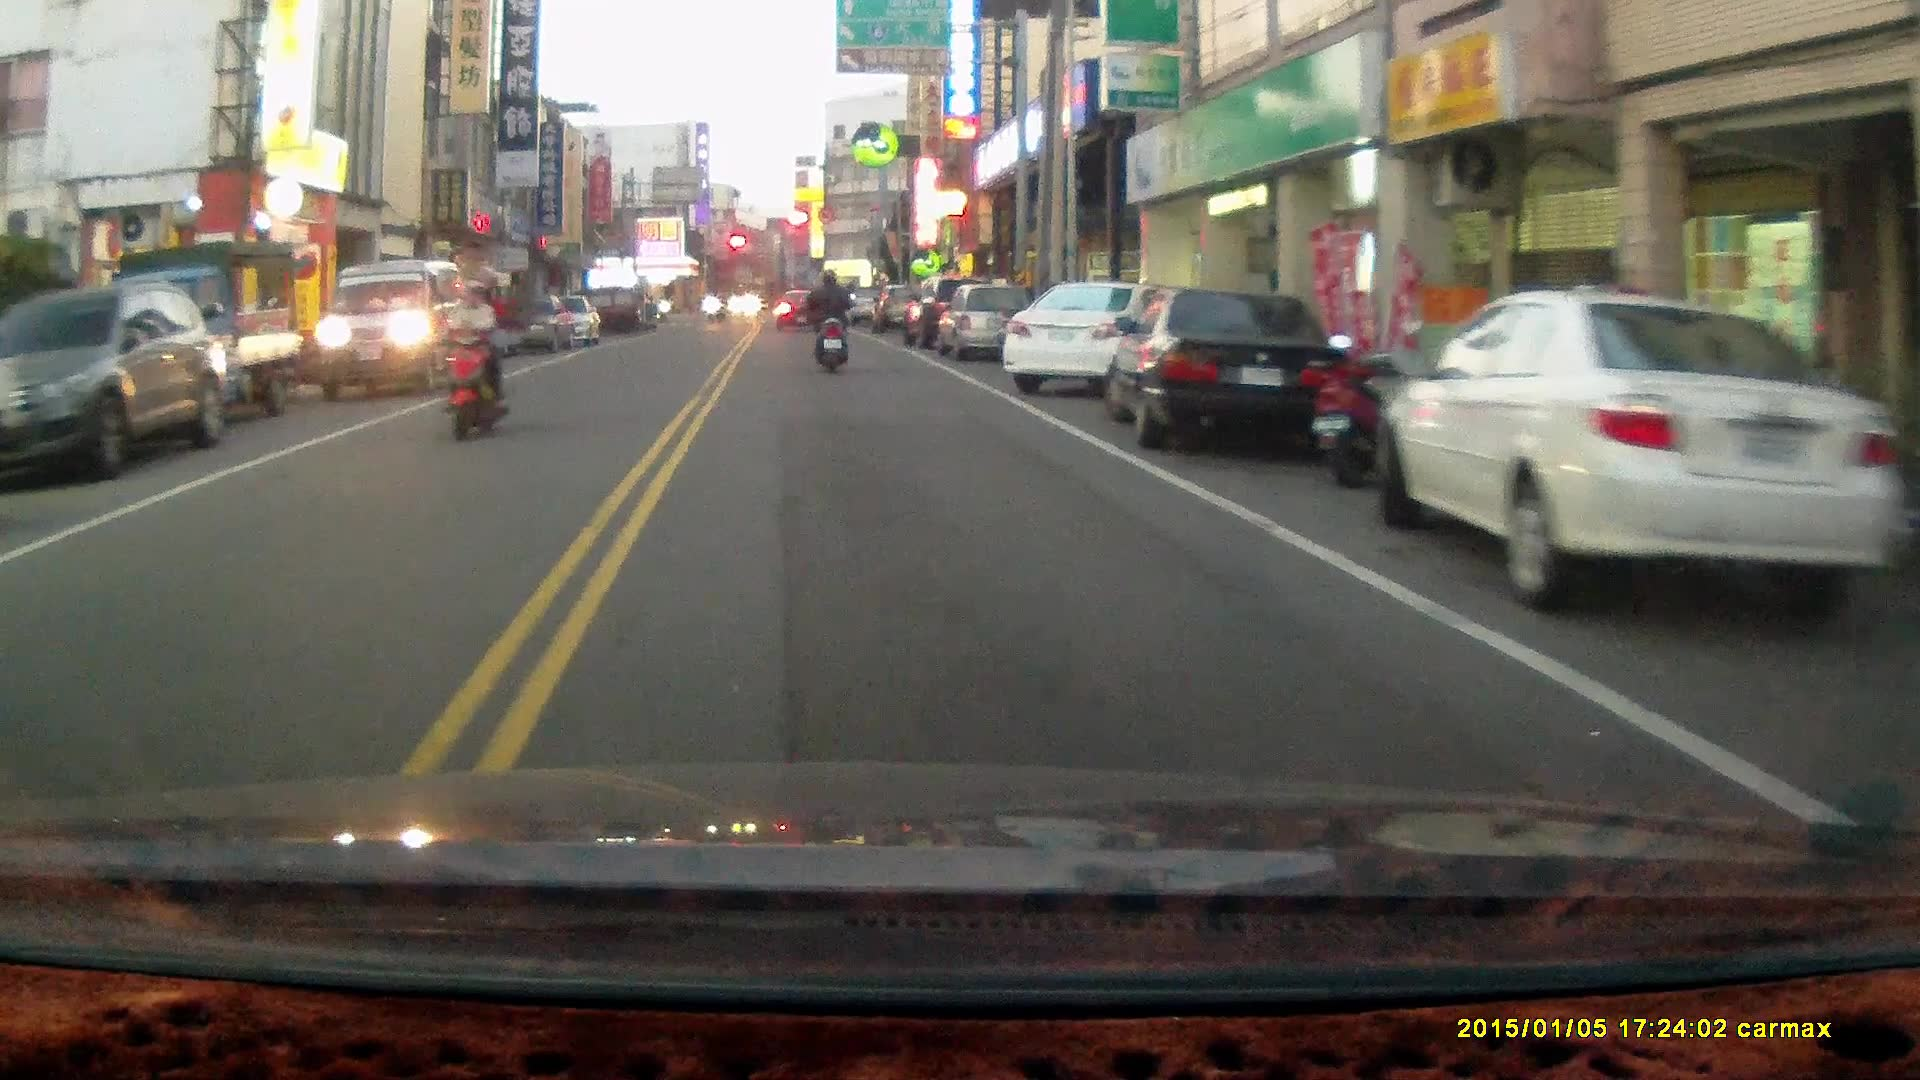rider: (437, 263, 506, 444), (805, 268, 851, 379)
vehicle: (1382, 290, 1903, 614), (3, 279, 223, 493), (1103, 289, 1347, 459), (82, 247, 302, 429), (999, 282, 1186, 400), (317, 258, 465, 396), (933, 280, 1041, 364)
